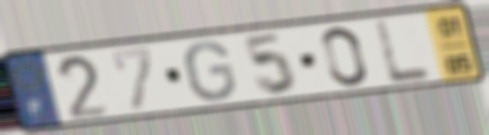0: (320, 25, 369, 88)
2: (54, 52, 111, 121)
5: (239, 30, 298, 98)
7: (108, 45, 157, 114)
G: (182, 39, 240, 103)
L: (373, 18, 437, 86)
